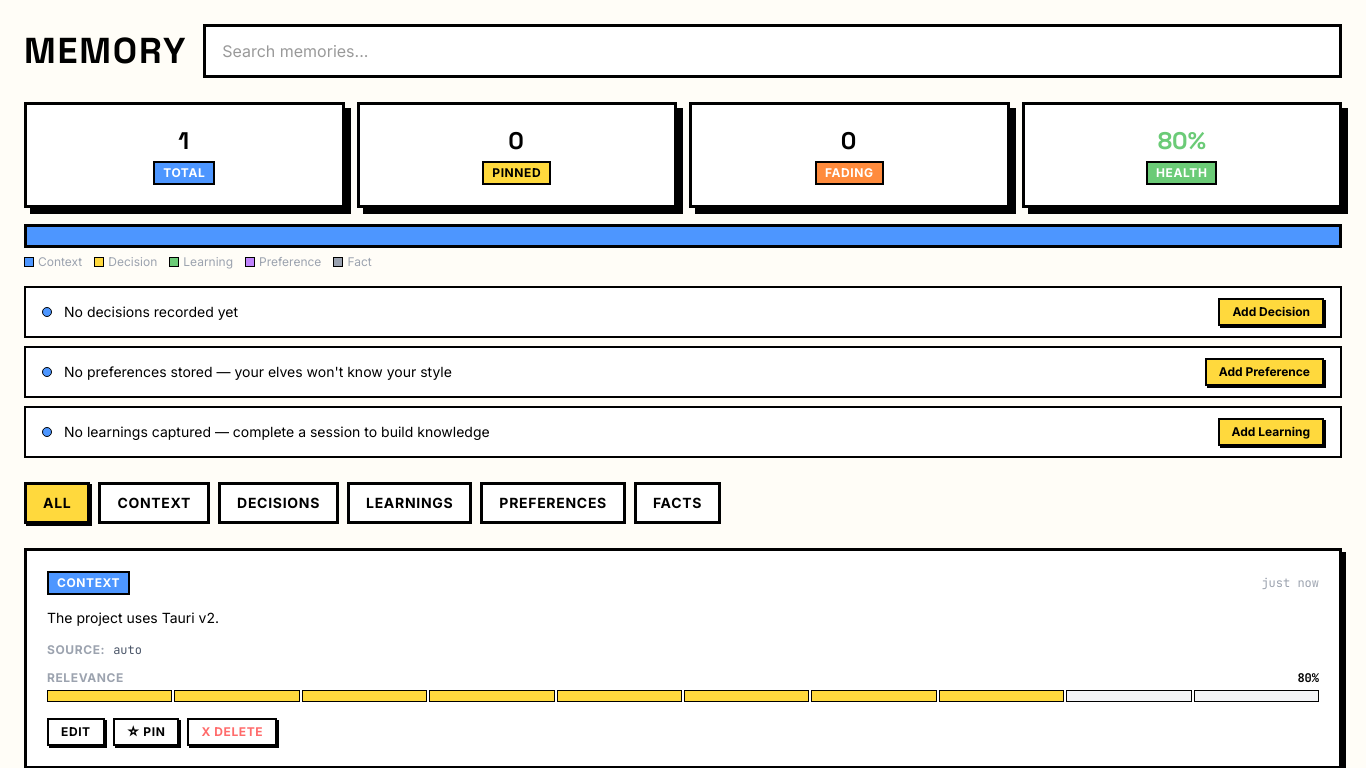
it: MemoryExplorer › opens add form with pre-selected category from dashboard insight action
The image size is (1366, 768).
What coordinates should you click on to do the following:
click the button with test id "insight-action-no-decisions"
I would click on:
 (1271, 312)
Its box is 1218,298 -> 1324,326.
(page scrolled)
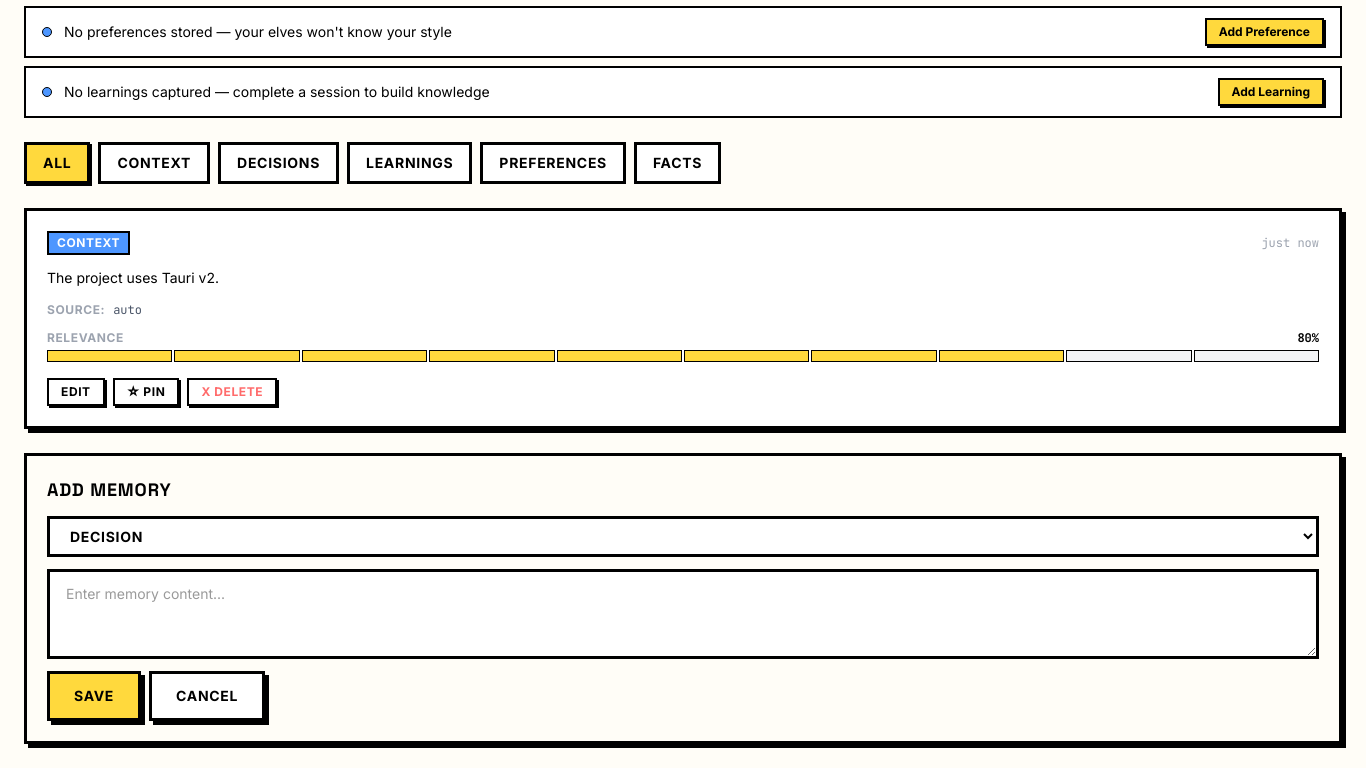
Check: the element with test id "add-memory-form" is shown, box 24,453 -> 1342,744
Check: the dropdown with test id "add-memory-category" shows "Decision", box 47,516 -> 1319,557
